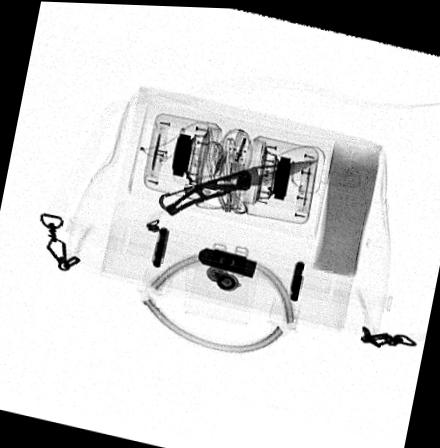Knife: (156, 156, 319, 215)
